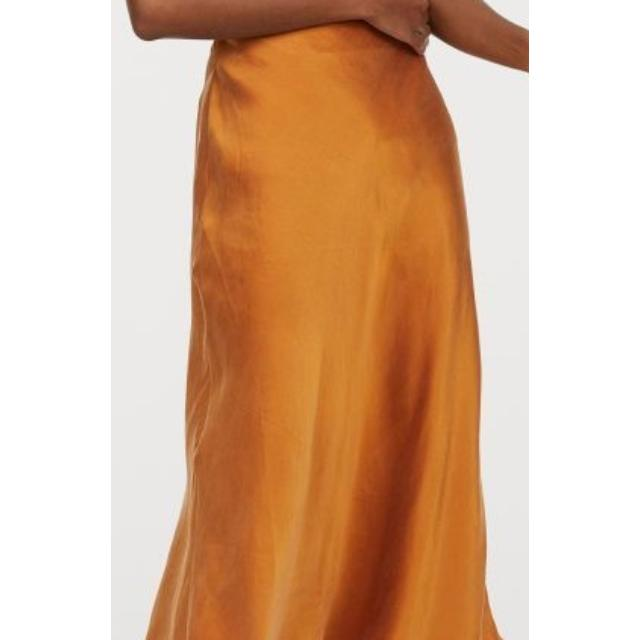silk: (111, 22, 515, 640)
